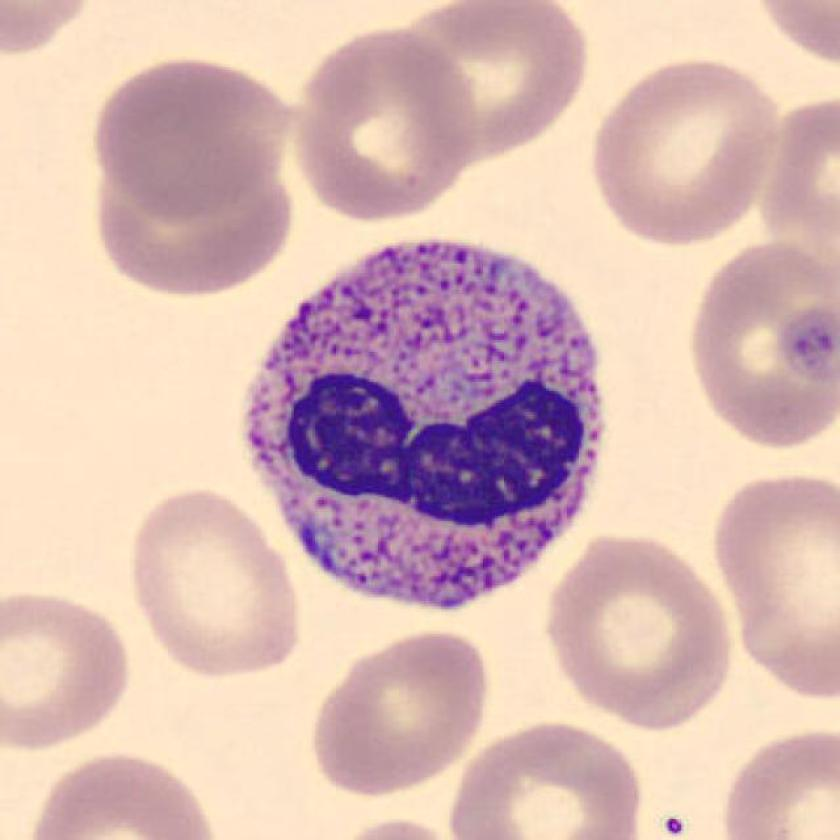neutrophil: (246, 239, 597, 609)
